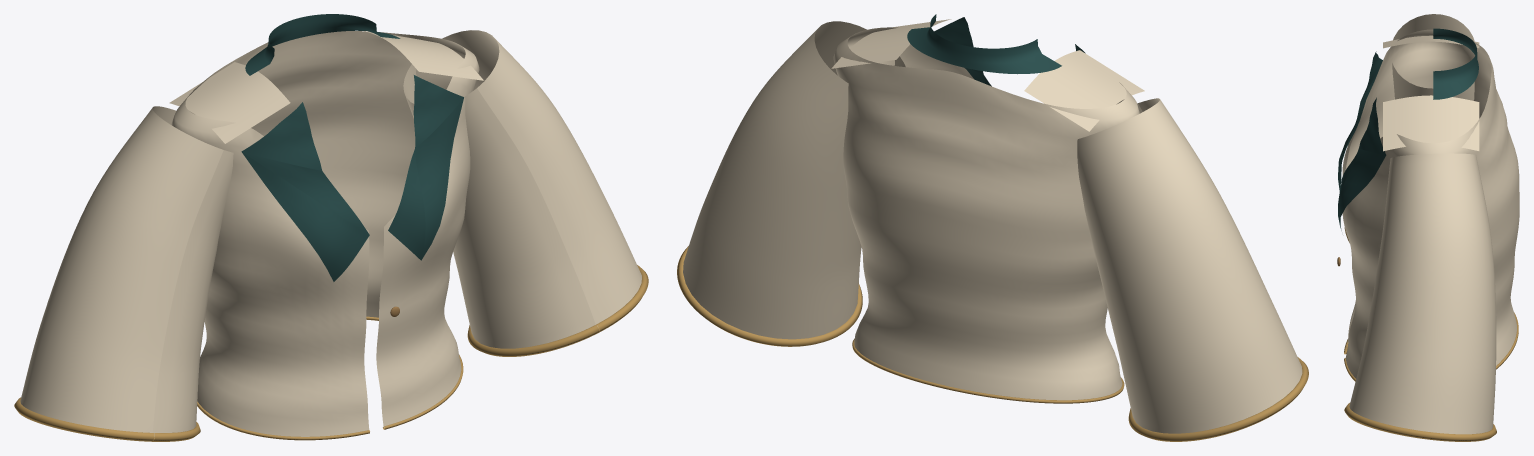
File: kostyum.glb
The picture shows the model from 3 angles, left to right: view 1: azimuth 30°, elevation 25°; view 2: azimuth 150°, elevation 25°; view 3: azimuth 270°, elevation 25°; orthographic projection. The views are drawn at different scales.
Visible parts, largest first — view 1: body.cropped-jacket, sleeves.cape-sleeve--1, sleeves.cape-sleeve-1, collar.lapel--1, collar.lapel-1, body.shoulder--1, collar.back-neck-band, body.shoulder-1, trim.cuff-1, trim.cuff--1, trim.cropped-binding; view 2: body.cropped-jacket, sleeves.cape-sleeve--1, sleeves.cape-sleeve-1, body.shoulder--1, collar.back-neck-band, trim.cuff-1, trim.cuff--1, body.shoulder-1, trim.cropped-binding, collar.lapel-1; view 3: sleeves.cape-sleeve-1, body.cropped-jacket, body.shoulder-1, collar.lapel-1, sleeves.cape-sleeve--1, collar.back-neck-band, trim.cuff-1, collar.lapel--1, body.shoulder--1, trim.cropped-binding.
Boxes of the visible parts, x1,y1,x2,y2 form: body.cropped-jacket: (171,31,479,436); sleeves.cape-sleeve--1: (20,106,233,436); sleeves.cape-sleeve-1: (403,30,641,348); collar.lapel--1: (241,102,369,281); collar.lapel-1: (388,75,463,260); body.shoulder--1: (169,62,290,143); collar.back-neck-band: (245,14,400,75); body.shoulder-1: (364,31,483,80); trim.cuff-1: (467,265,648,356); trim.cuff--1: (14,397,200,441); trim.cropped-binding: (197,316,463,440); body.cropped-jacket: (833,27,1139,400); sleeves.cape-sleeve--1: (1077,98,1302,433); sleeves.cape-sleeve-1: (683,21,905,339); body.shoulder--1: (1024,50,1144,131); collar.back-neck-band: (907,14,1061,74); trim.cuff-1: (677,246,862,346); trim.cuff--1: (1128,357,1308,441); body.shoulder-1: (831,19,951,68); trim.cropped-binding: (852,339,1124,403); collar.lapel-1: (934,17,991,86); sleeves.cape-sleeve-1: (1349,153,1496,434); body.cropped-jacket: (1342,29,1519,378); body.shoulder-1: (1383,95,1479,151); collar.lapel-1: (1338,97,1386,230); sleeves.cape-sleeve--1: (1392,14,1474,100); collar.back-neck-band: (1433,28,1478,99); trim.cuff-1: (1344,403,1496,441); collar.lapel--1: (1338,51,1382,191); body.shoulder--1: (1383,35,1479,48); trim.cropped-binding: (1344,312,1518,381).
Size of the model in its own units: 1.15 by 0.6404 by 0.3446.
